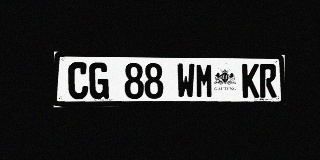8: (125, 63, 144, 99), (144, 63, 163, 99)
C: (68, 62, 88, 99)
G: (89, 62, 109, 99)
K: (242, 64, 259, 98)
M: (196, 63, 214, 98)
R: (260, 64, 277, 98)
W: (177, 63, 195, 98)
